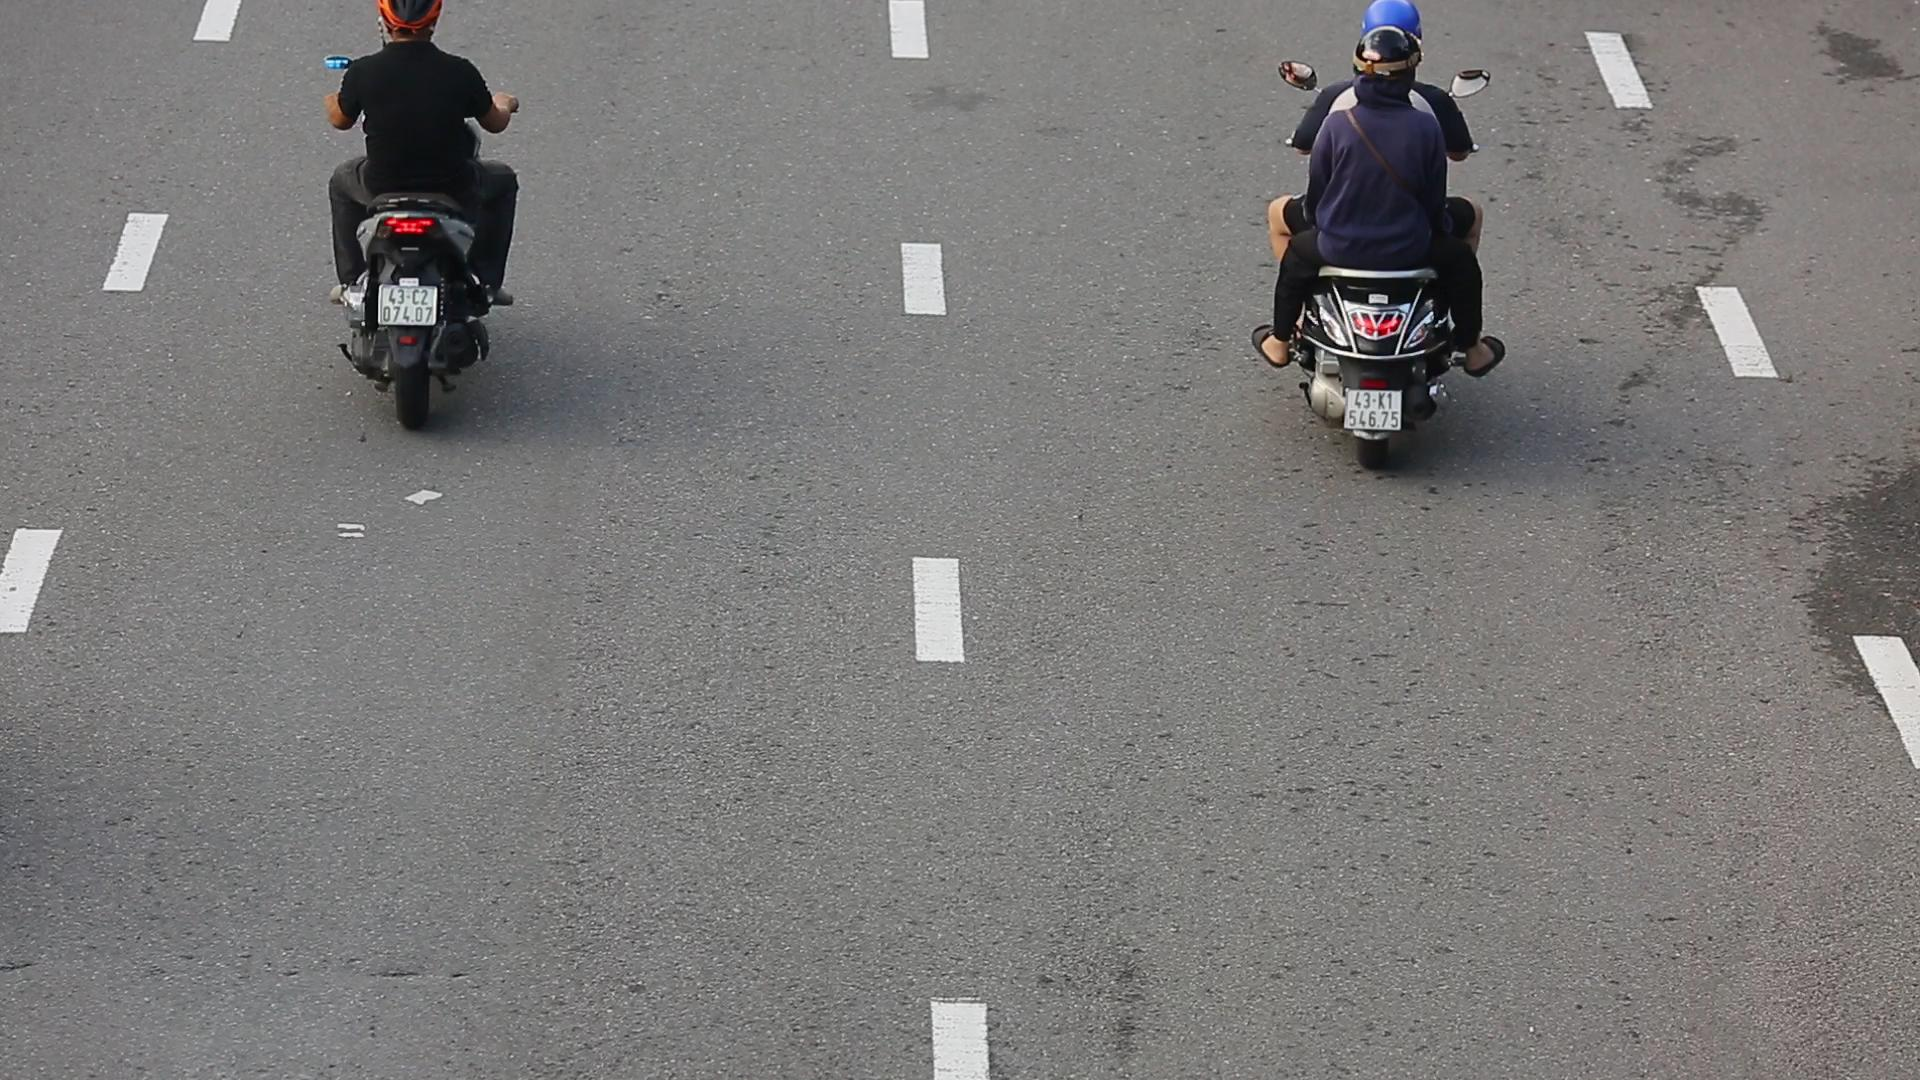motobike: (1242, 0, 1522, 484), (315, 0, 541, 436)
